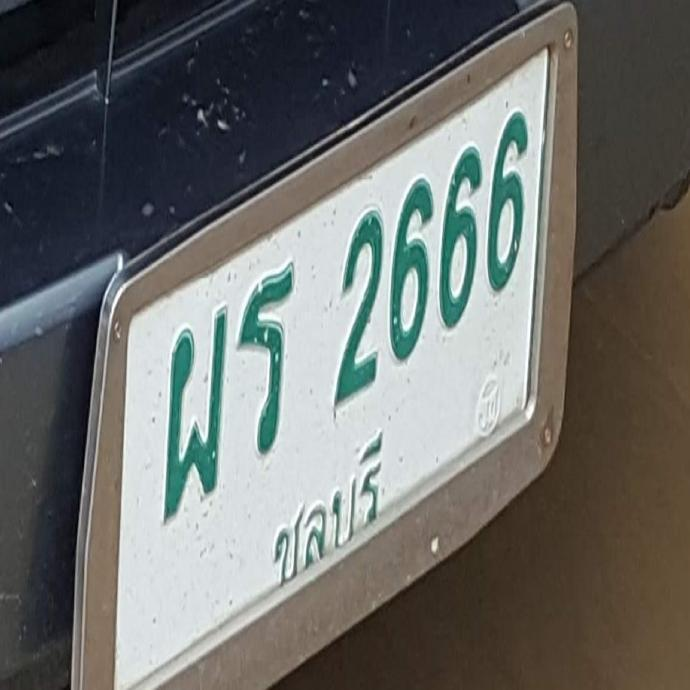2: (336, 212, 383, 403)
6: (391, 179, 433, 360), (441, 147, 482, 327), (488, 112, 528, 290)
A28: (165, 309, 226, 519)
A35: (240, 263, 292, 453)
CBI: (274, 431, 383, 585)
